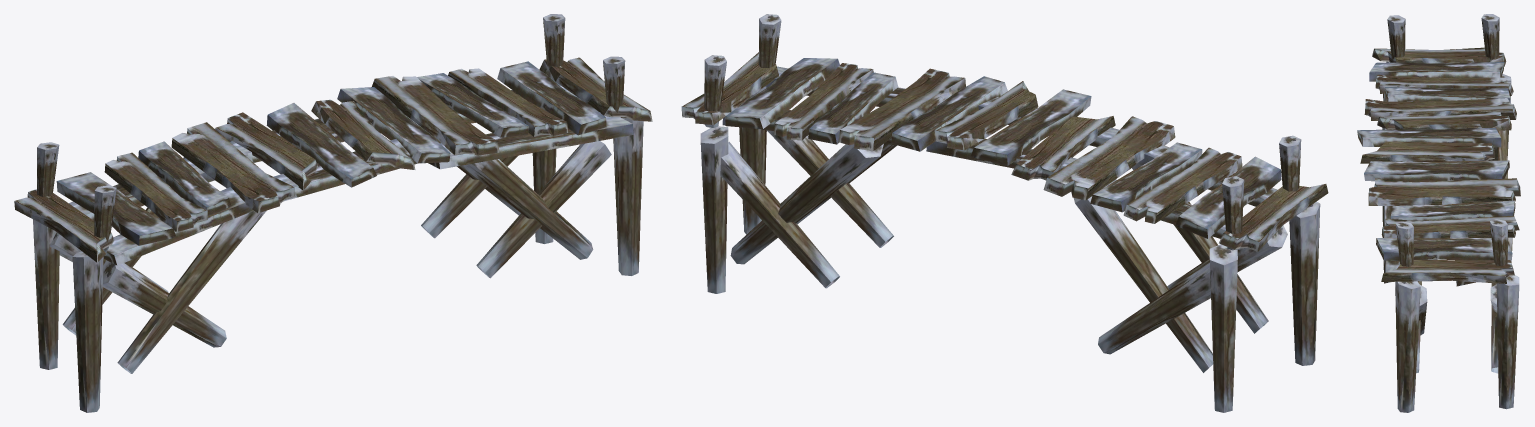
3 views of the same model, side by side, from view 1: azimuth 30°, elevation 25°; view 2: azimuth 150°, elevation 25°; view 3: azimuth 270°, elevation 25° (orthographic). The views are drawn at different scales.
Parts seen in each view (by area): view 1: polySurface19; view 2: polySurface19; view 3: polySurface19.
Boxes of the visible parts, x1,y1,x2,y2 form: polySurface19: [14, 14, 652, 412]; polySurface19: [681, 14, 1328, 412]; polySurface19: [1357, 14, 1520, 412].
Size of the model in its own units: 46.86 by 17.59 by 14.08.
1 material, 1 textured.
